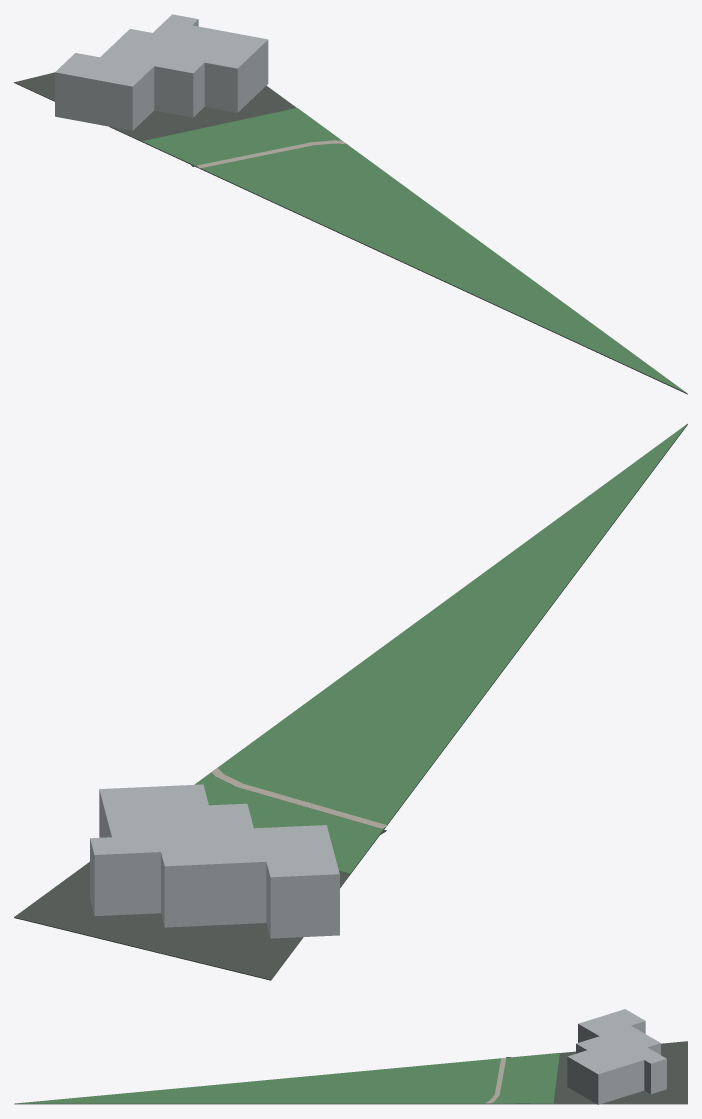
The model's file is tile_000_004.glb.
3 views of the same model, one above another, from view 1: azimuth 30°, elevation 25°; view 2: azimuth 150°, elevation 25°; view 3: azimuth 270°, elevation 25° (orthographic). The views are drawn at different scales.
Visible parts, largest first — view 1: tile_000_004_open_spaces, tile_000_004_buildings_neutral, tile_000_004_ground, tile_000_004_paths; view 2: tile_000_004_open_spaces, tile_000_004_buildings_neutral, tile_000_004_ground, tile_000_004_paths; view 3: tile_000_004_open_spaces, tile_000_004_buildings_neutral, tile_000_004_ground, tile_000_004_paths.
Boxes of the visible parts, x1=… form: tile_000_004_open_spaces: x1=142, y1=108, x2=687, y2=393; tile_000_004_buildings_neutral: x1=55, y1=14, x2=268, y2=130; tile_000_004_ground: x1=14, y1=72, x2=687, y2=394; tile_000_004_paths: x1=197, y1=140, x2=346, y2=168; tile_000_004_open_spaces: x1=194, y1=423, x2=687, y2=873; tile_000_004_buildings_neutral: x1=90, y1=784, x2=339, y2=938; tile_000_004_ground: x1=14, y1=424, x2=687, y2=980; tile_000_004_paths: x1=211, y1=767, x2=387, y2=828; tile_000_004_open_spaces: x1=15, y1=1053, x2=559, y2=1103; tile_000_004_buildings_neutral: x1=567, y1=1009, x2=666, y2=1104; tile_000_004_ground: x1=14, y1=1041, x2=687, y2=1104; tile_000_004_paths: x1=485, y1=1058, x2=506, y2=1103.
Bounding box in the file's own units: 54.9 × 12.16 × 239.
